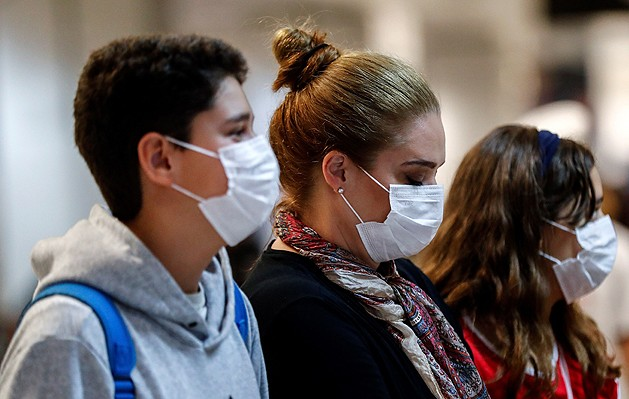with_mask: (101, 52, 286, 246), (312, 87, 453, 279), (522, 146, 629, 313)
